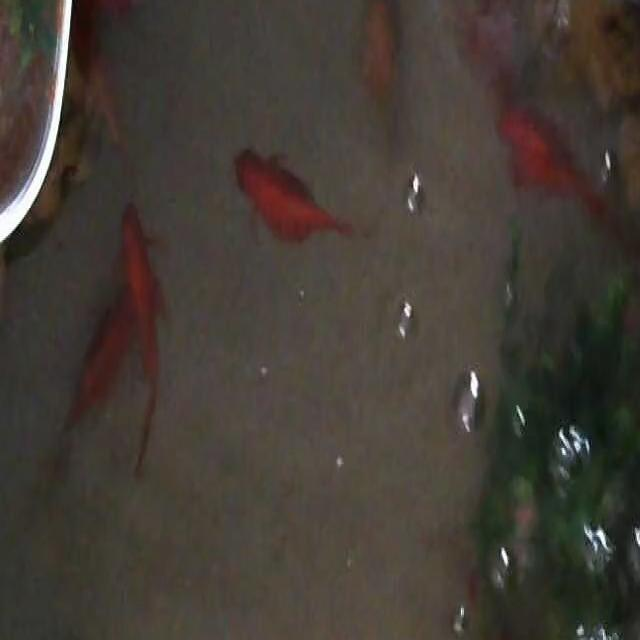fish: (499, 105, 638, 258), (109, 188, 170, 479), (232, 148, 364, 246), (59, 305, 143, 454), (460, 0, 520, 91), (359, 0, 398, 105), (73, 0, 136, 23)
